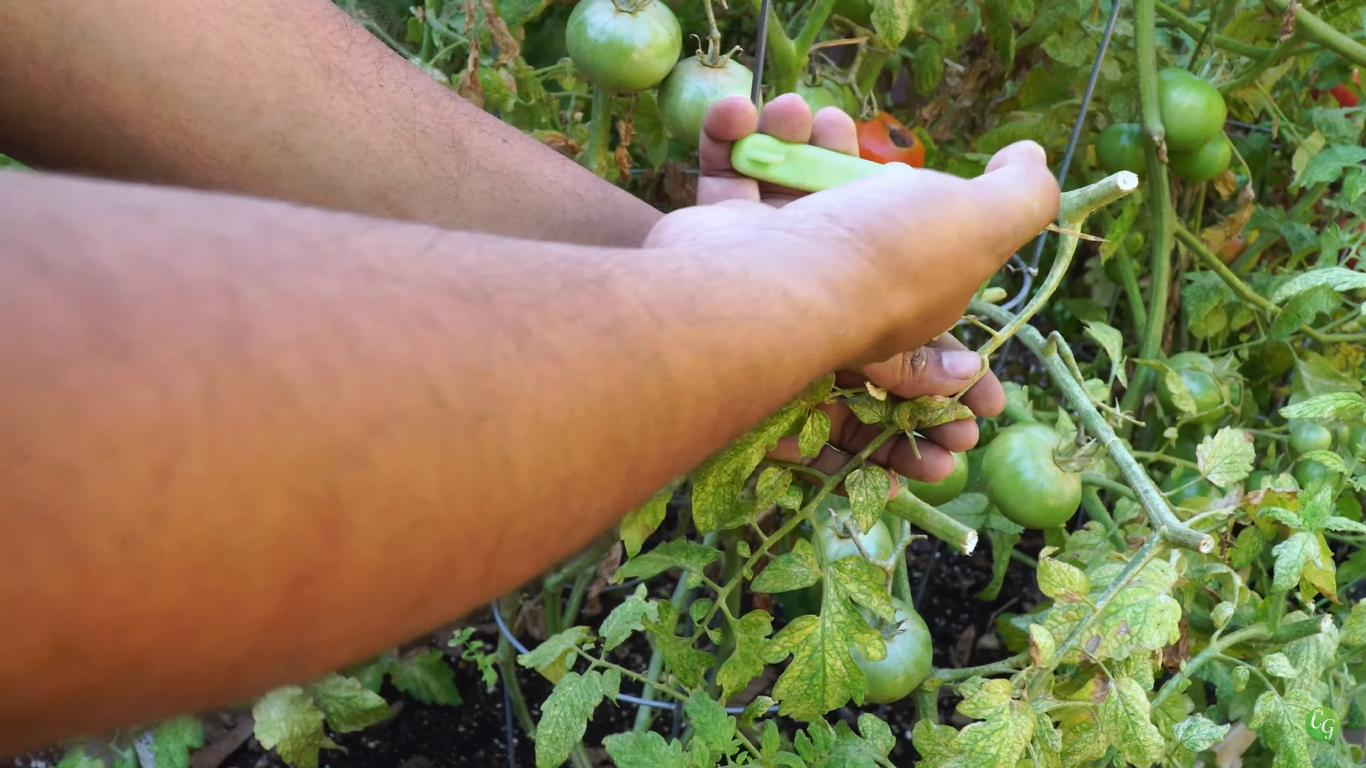Spider Mites: (763, 555, 896, 724), (690, 398, 803, 533), (1042, 563, 1184, 662), (938, 672, 1035, 768), (536, 668, 604, 768), (1099, 673, 1167, 768), (253, 685, 328, 768), (311, 671, 405, 734), (715, 610, 777, 705), (1267, 266, 1366, 314), (683, 682, 744, 759), (1250, 688, 1306, 768), (752, 535, 822, 594), (595, 582, 654, 652), (1197, 424, 1258, 488), (1034, 543, 1095, 606), (1266, 530, 1321, 596), (894, 390, 978, 433), (599, 731, 690, 768), (845, 465, 893, 535), (1279, 390, 1366, 422), (1174, 713, 1232, 752), (754, 462, 793, 512), (798, 409, 832, 464), (840, 392, 885, 425), (1262, 652, 1299, 680)
